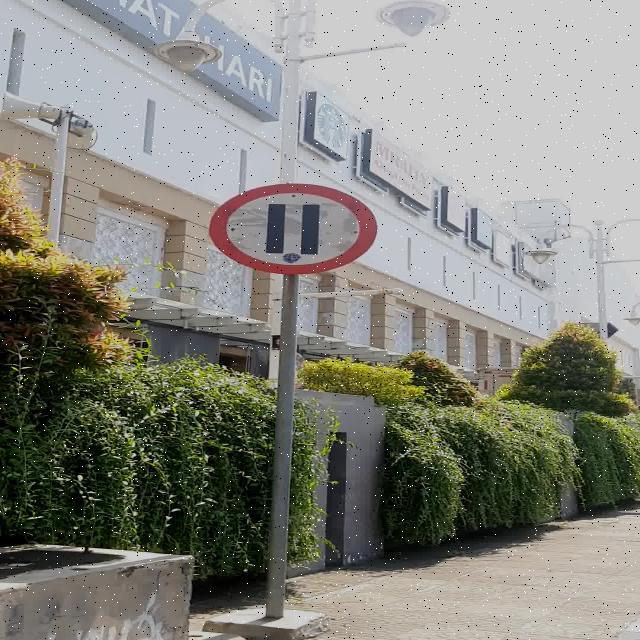Larangan Muatan - 10 ton: (210, 183, 376, 274)
